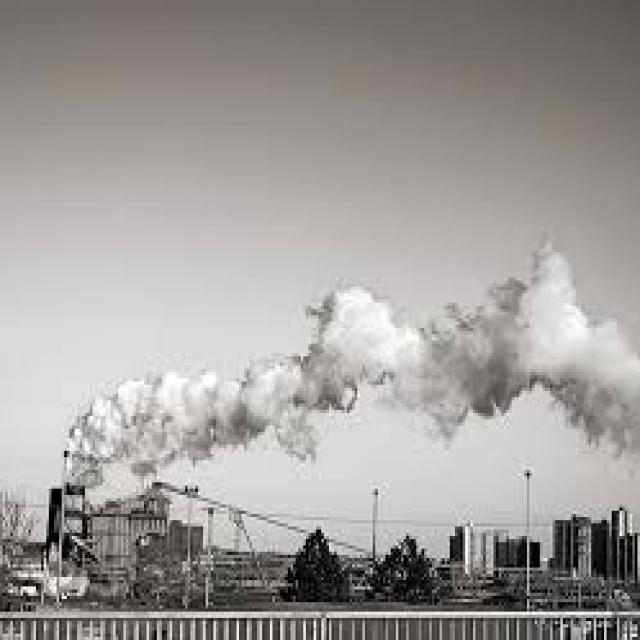Smoke: (62, 239, 640, 484)
